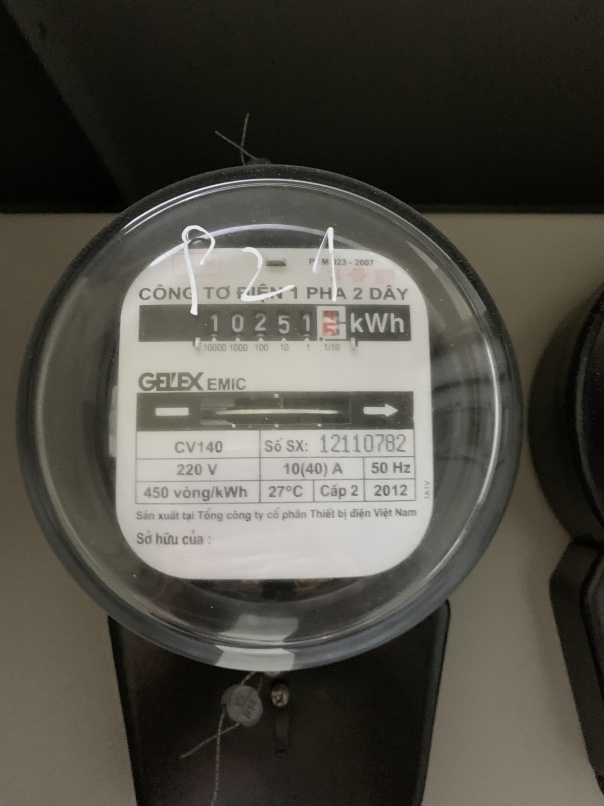counter: (139, 306, 414, 341)
electricity_meter: (19, 163, 528, 670)
